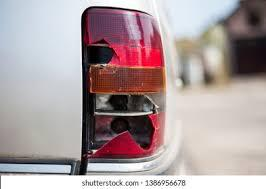Taillight-Damage: (79, 3, 174, 171)
